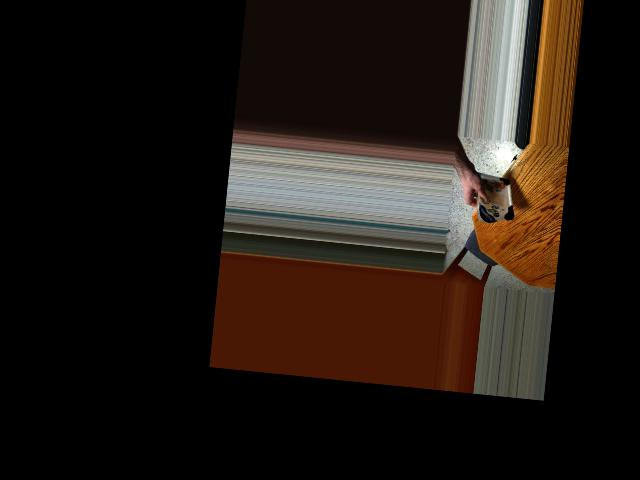cheese: (470, 164, 515, 227)
